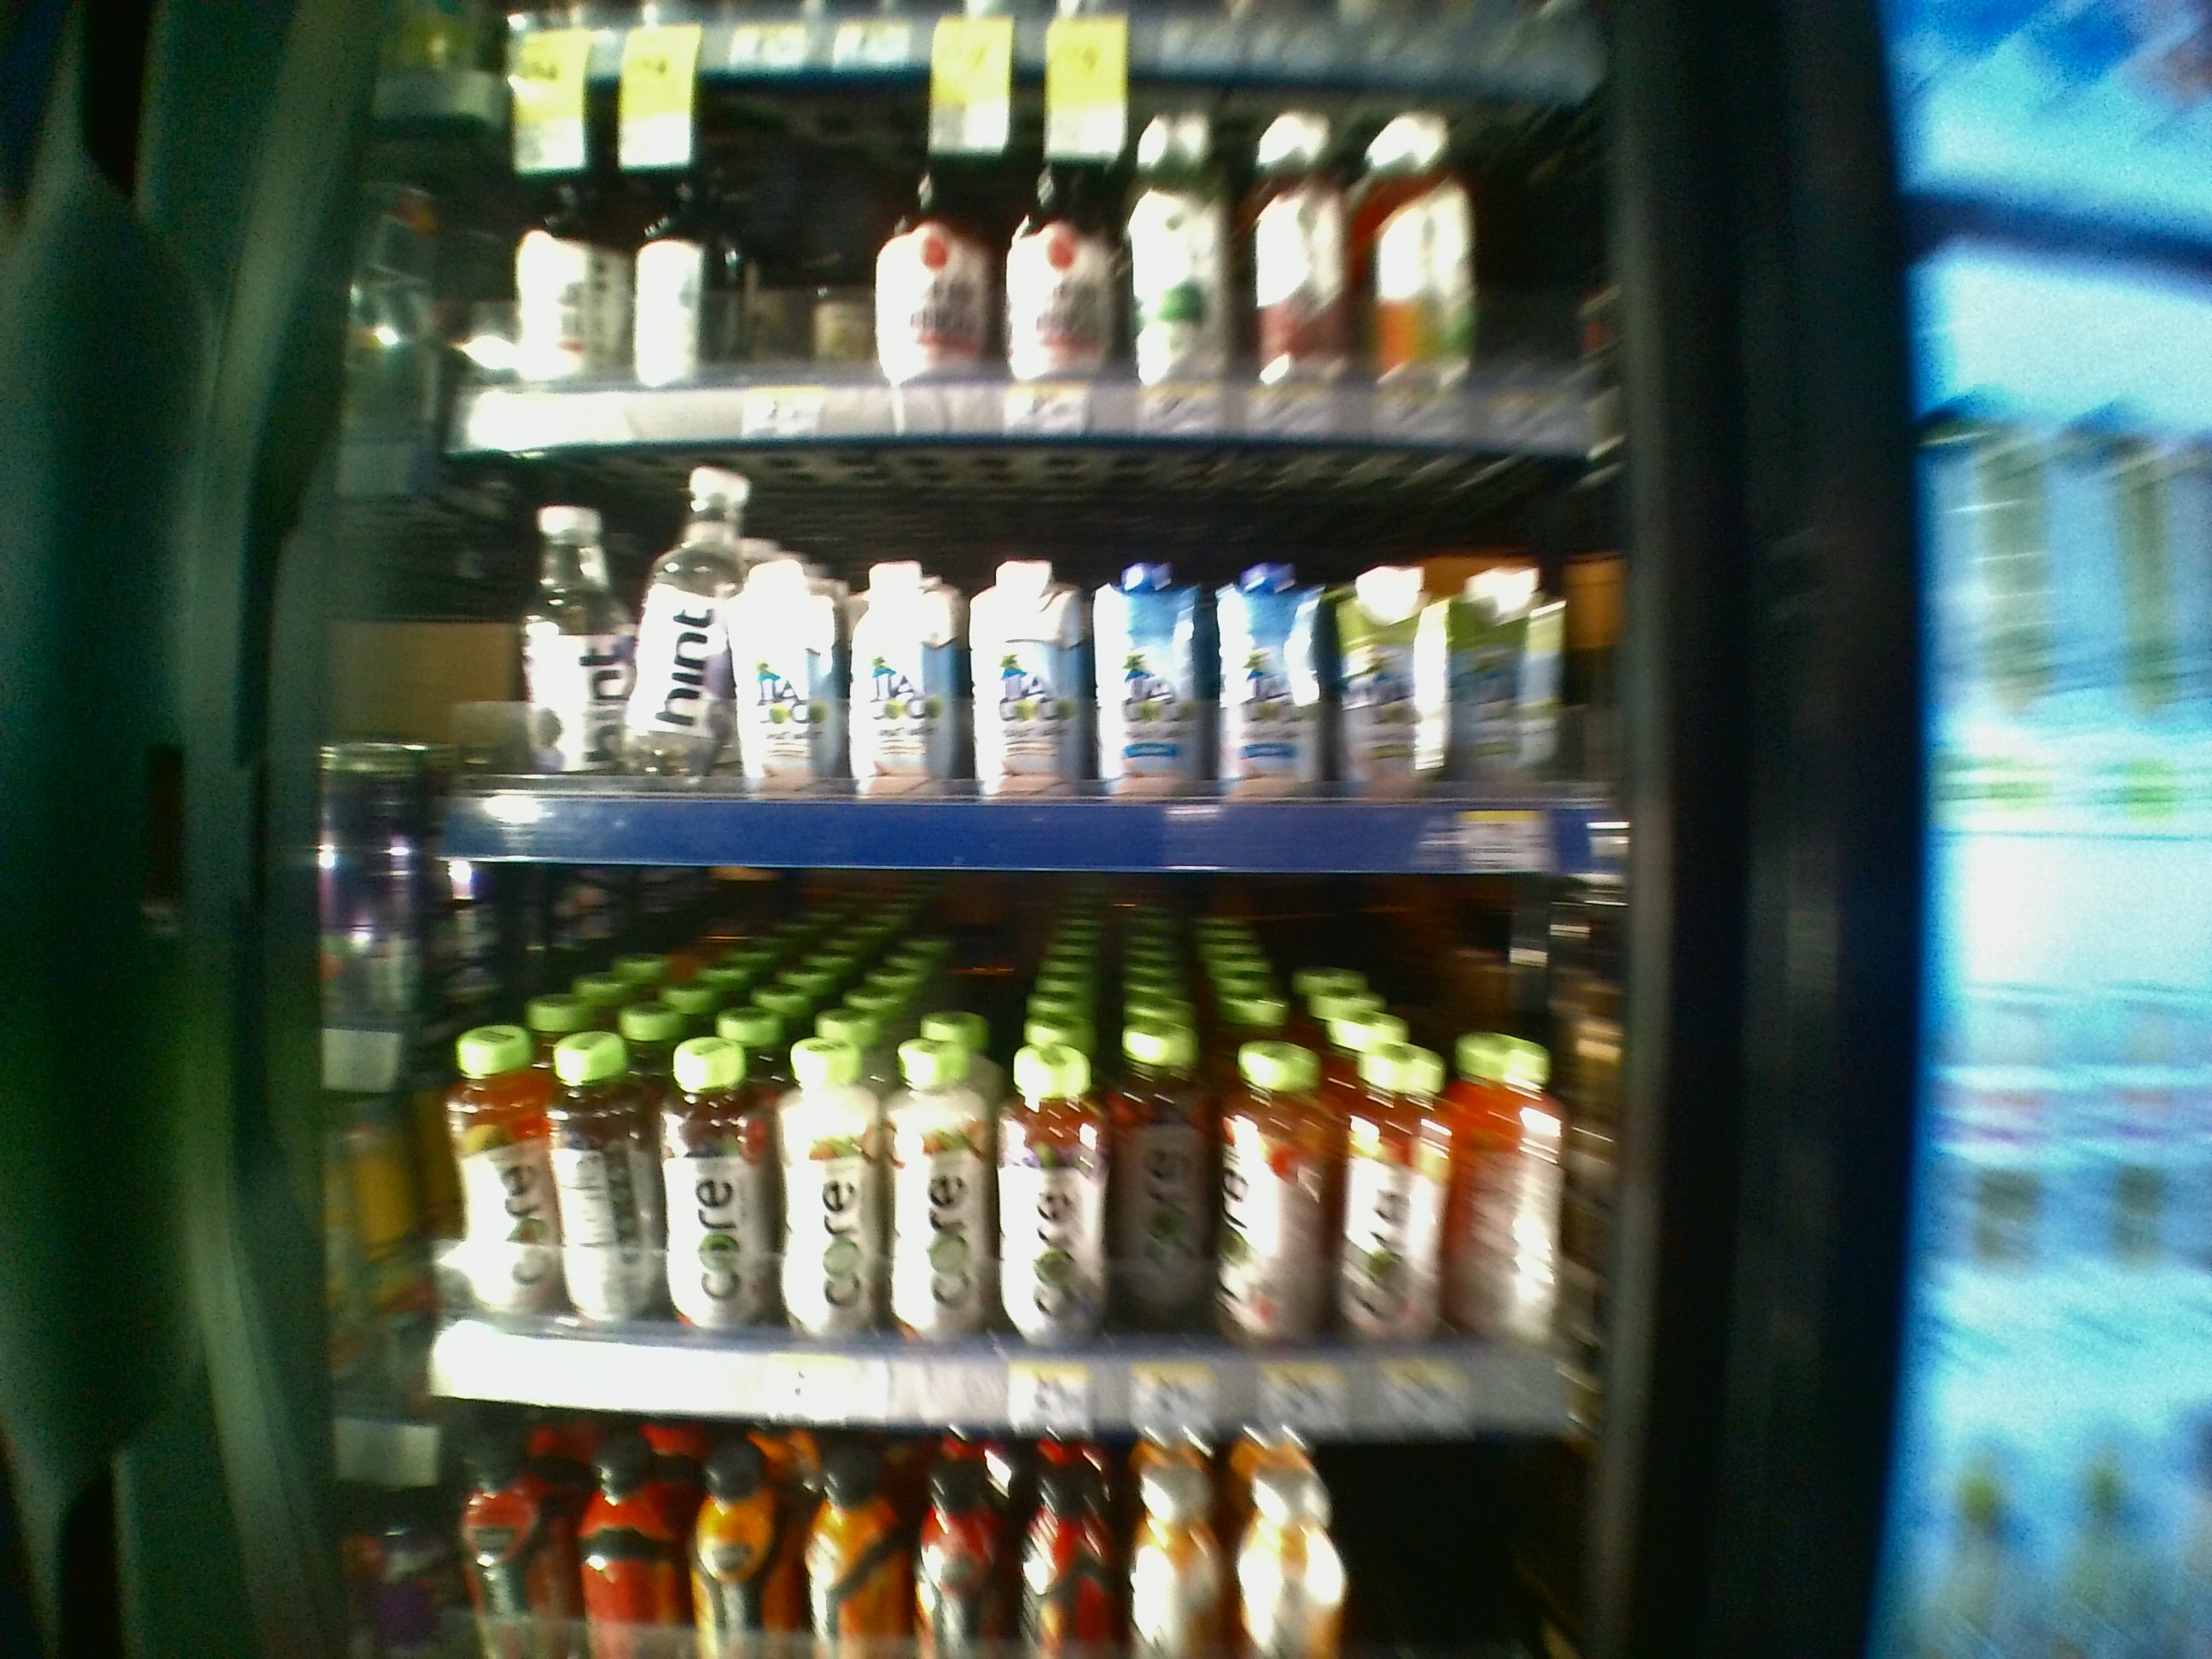shelf: (333, 877, 1655, 1432), (406, 441, 1642, 877)
